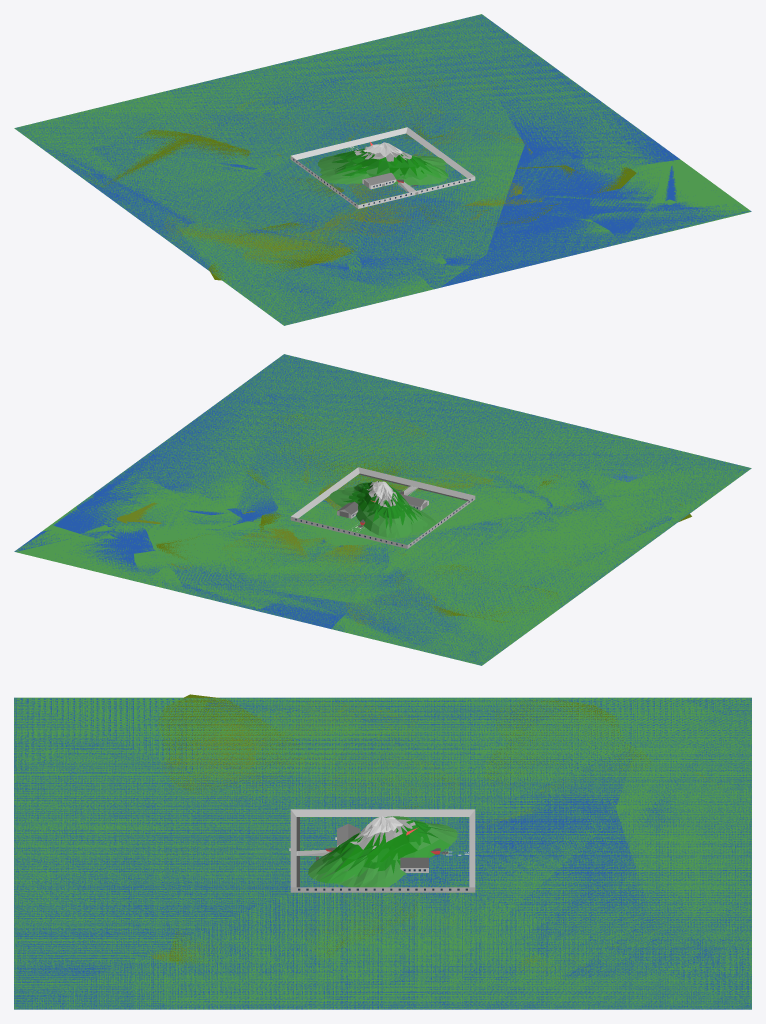
File: persian_gulf.glb
3 views of the same model, one above another, from view 1: azimuth 30°, elevation 25°; view 2: azimuth 150°, elevation 25°; view 3: azimuth 270°, elevation 25° (orthographic). The views are drawn at different scales.
Parts seen in each view (by area): view 1: persian_gulf_109_lod0, persian_gulf_128_lod0, persian_gulf_000_lod0, persian_gulf_139_lod0, persian_gulf_134_lod0, persian_gulf_147_lod0, persian_gulf_129_lod0, persian_gulf_138_lod0, persian_gulf_137_lod0, persian_gulf_107_lod0_forest, persian_gulf_142_lod0, persian_gulf_133_lod0 (+18 smaller); view 2: persian_gulf_000_lod0, persian_gulf_133_lod0, persian_gulf_109_lod0, persian_gulf_131_lod0, persian_gulf_134_lod0, persian_gulf_142_lod0, persian_gulf_128_lod0, persian_gulf_132_lod0, persian_gulf_136_lod0, persian_gulf_135_lod0, persian_gulf_137_lod0, persian_gulf_147_lod0 (+15 smaller); view 3: persian_gulf_000_lod0, persian_gulf_109_lod0, persian_gulf_135_lod0, persian_gulf_129_lod0, persian_gulf_136_lod0, persian_gulf_140_lod0, persian_gulf_133_lod0, persian_gulf_128_lod0, persian_gulf_130_lod0, persian_gulf_147_lod0, persian_gulf_144_lod0, persian_gulf_131_lod0 (+18 smaller).
Boxes of the visible parts, bbox=[...] form: persian_gulf_109_lod0: bbox=[16, 14, 749, 325]; persian_gulf_128_lod0: bbox=[17, 15, 744, 325]; persian_gulf_000_lod0: bbox=[14, 14, 745, 325]; persian_gulf_139_lod0: bbox=[27, 19, 750, 322]; persian_gulf_134_lod0: bbox=[22, 17, 726, 319]; persian_gulf_147_lod0: bbox=[34, 27, 608, 289]; persian_gulf_129_lod0: bbox=[19, 16, 751, 324]; persian_gulf_138_lod0: bbox=[33, 22, 719, 321]; persian_gulf_137_lod0: bbox=[21, 19, 729, 324]; persian_gulf_107_lod0_forest: bbox=[163, 106, 636, 252]; persian_gulf_142_lod0: bbox=[21, 16, 717, 321]; persian_gulf_133_lod0: bbox=[54, 20, 744, 318]; persian_gulf_000_lod0: bbox=[15, 354, 750, 665]; persian_gulf_133_lod0: bbox=[21, 356, 741, 663]; persian_gulf_109_lod0: bbox=[18, 355, 751, 665]; persian_gulf_131_lod0: bbox=[16, 355, 742, 664]; persian_gulf_134_lod0: bbox=[17, 355, 742, 659]; persian_gulf_142_lod0: bbox=[27, 399, 718, 659]; persian_gulf_128_lod0: bbox=[14, 354, 749, 664]; persian_gulf_132_lod0: bbox=[22, 358, 745, 664]; persian_gulf_136_lod0: bbox=[78, 357, 743, 664]; persian_gulf_135_lod0: bbox=[140, 361, 735, 662]; persian_gulf_137_lod0: bbox=[24, 359, 715, 661]; persian_gulf_147_lod0: bbox=[144, 366, 701, 662]; persian_gulf_000_lod0: bbox=[14, 697, 751, 1009]; persian_gulf_109_lod0: bbox=[14, 697, 751, 1009]; persian_gulf_135_lod0: bbox=[14, 698, 751, 1005]; persian_gulf_129_lod0: bbox=[14, 697, 751, 1009]; persian_gulf_136_lod0: bbox=[14, 698, 748, 1009]; persian_gulf_140_lod0: bbox=[14, 699, 751, 1008]; persian_gulf_133_lod0: bbox=[14, 697, 751, 1009]; persian_gulf_128_lod0: bbox=[14, 697, 751, 1009]; persian_gulf_130_lod0: bbox=[14, 697, 751, 1009]; persian_gulf_147_lod0: bbox=[14, 698, 751, 1006]; persian_gulf_144_lod0: bbox=[14, 698, 751, 1009]; persian_gulf_131_lod0: bbox=[14, 697, 751, 1009].
Size of what is drawn, in the model's own units: 4139 by 234 by 4096.
